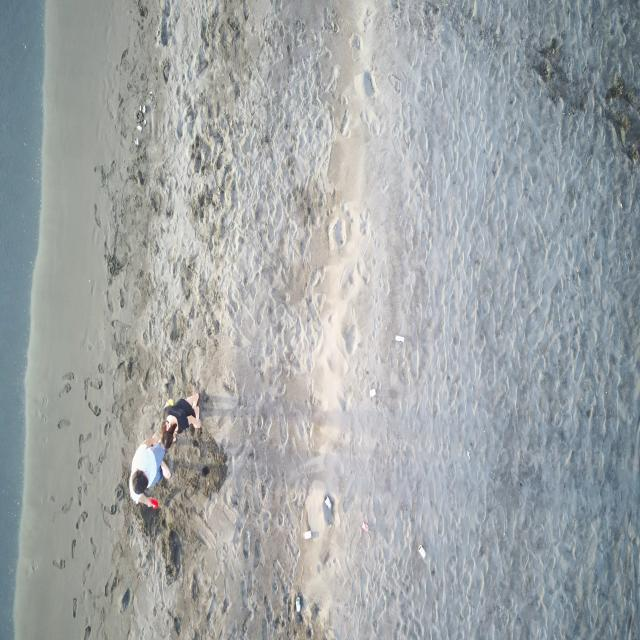Garbage: (293, 592, 303, 622), (324, 495, 332, 524), (295, 592, 301, 613), (304, 529, 316, 539), (148, 497, 158, 508), (136, 108, 143, 123), (417, 544, 424, 557), (360, 520, 367, 532), (324, 495, 331, 507), (395, 335, 403, 342), (368, 388, 375, 395), (135, 137, 139, 145), (136, 123, 140, 131), (140, 104, 144, 112), (141, 119, 144, 124)
